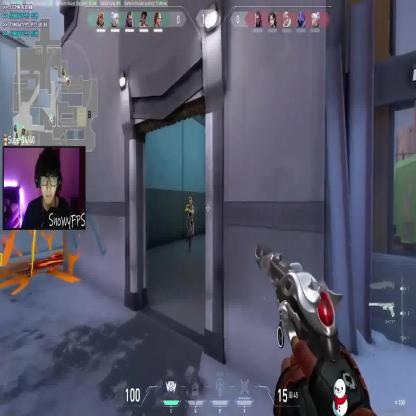enemy: (184, 196, 195, 253)
enemy_head: (188, 196, 192, 206)
